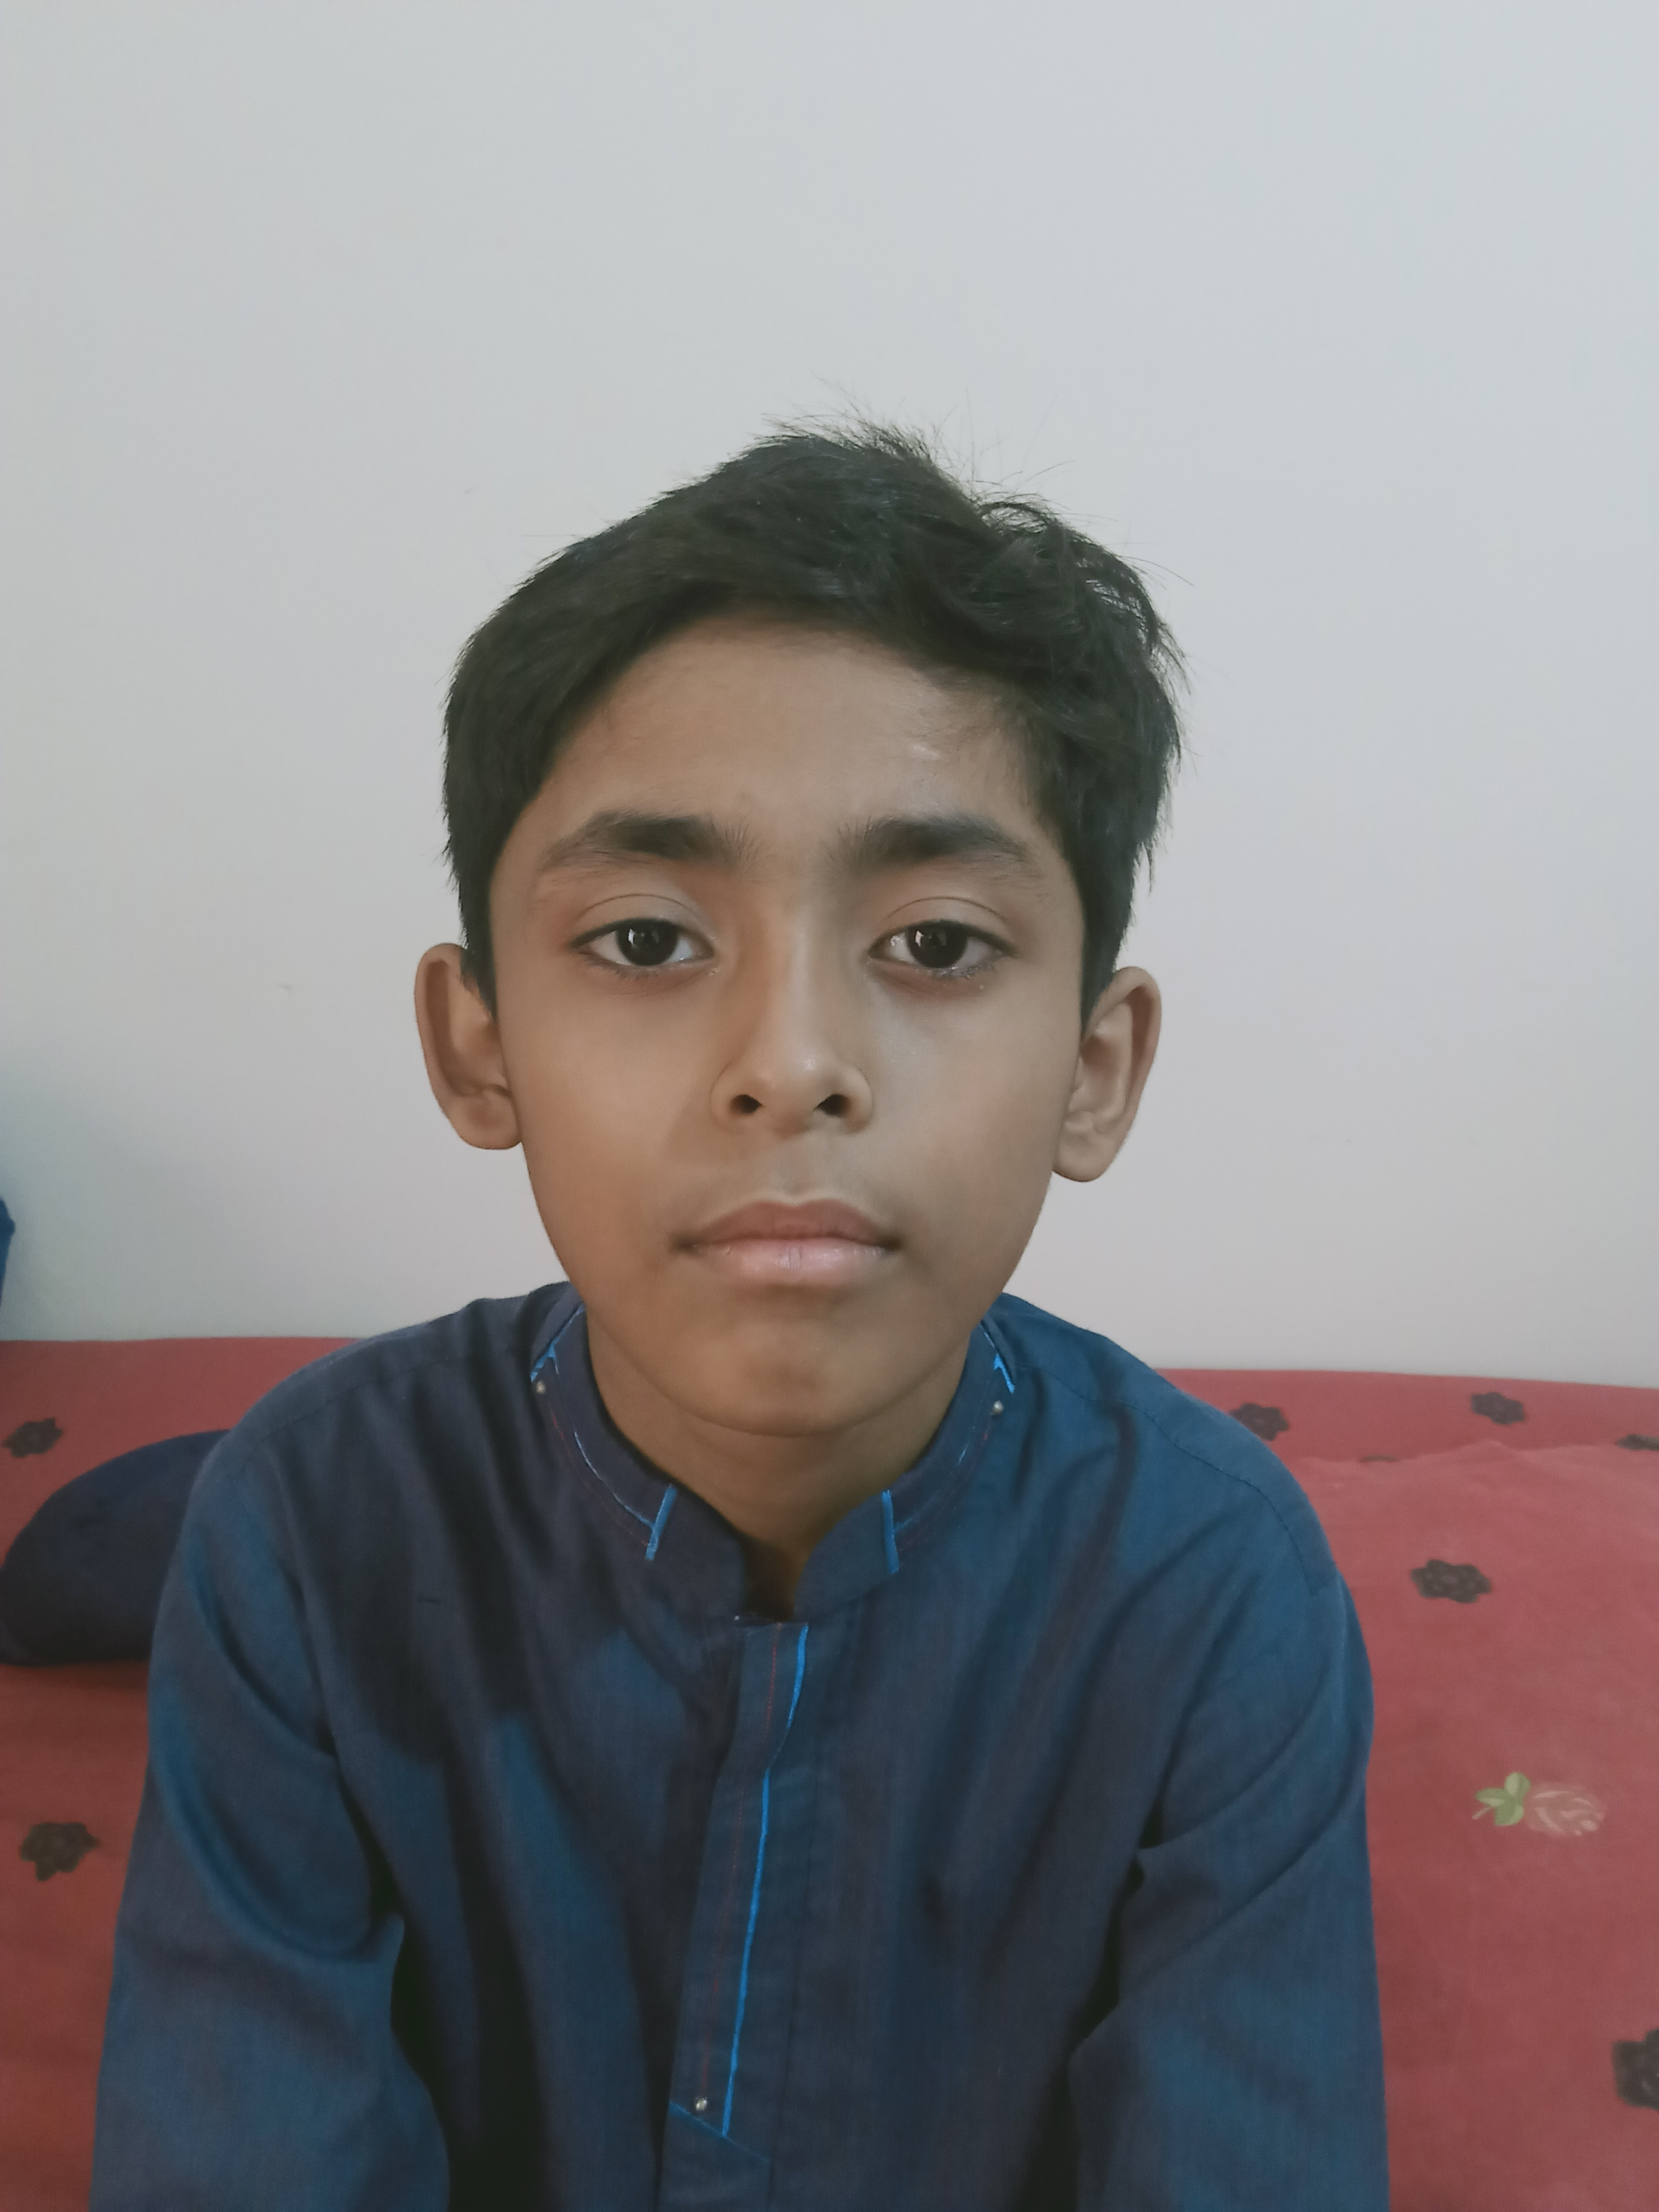NoMask: (538, 774, 1050, 1428)
